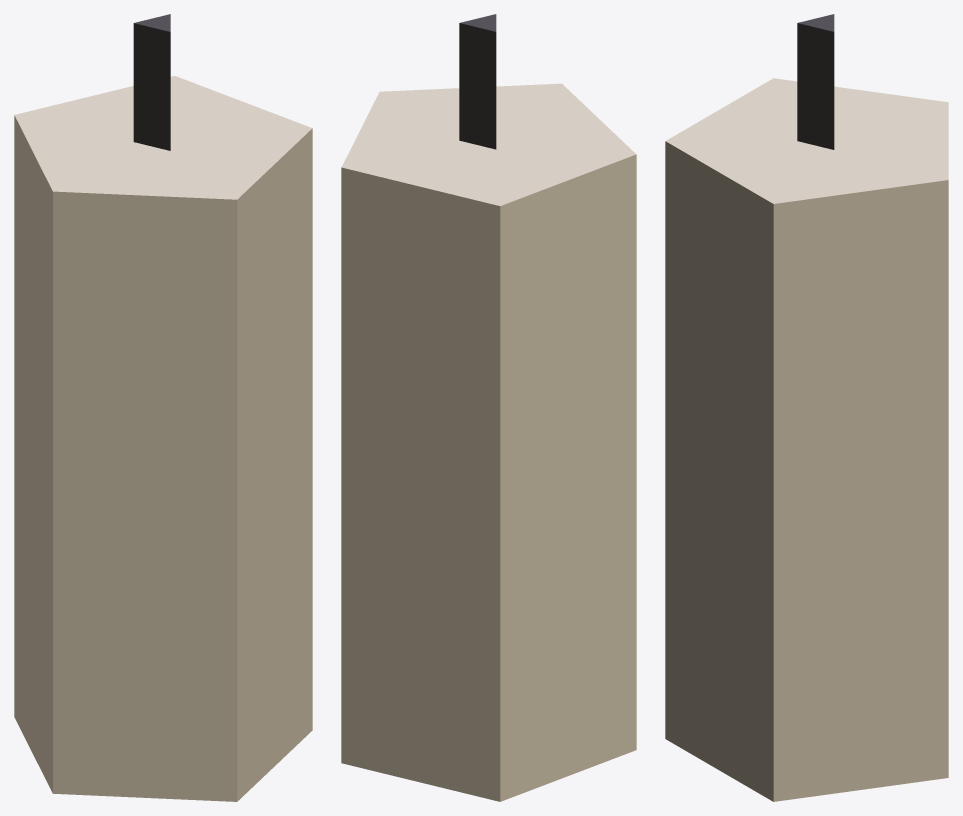
Rendered from TB_D_Prop_Candle_B.FBX.
3 views of the same model, side by side, from view 1: azimuth 30°, elevation 25°; view 2: azimuth 150°, elevation 25°; view 3: azimuth 270°, elevation 25° (orthographic).
Parts seen in each view (by area): view 1: TB_D_Prop_Candle_B; view 2: TB_D_Prop_Candle_B; view 3: TB_D_Prop_Candle_B.
Boxes of the visible parts, x1,y1,x2,y2 form: TB_D_Prop_Candle_B: [14, 14, 312, 801]; TB_D_Prop_Candle_B: [341, 14, 636, 801]; TB_D_Prop_Candle_B: [665, 14, 948, 801].
Bounding box in the file's own units: 0.1805 × 0.479 × 0.1717.
